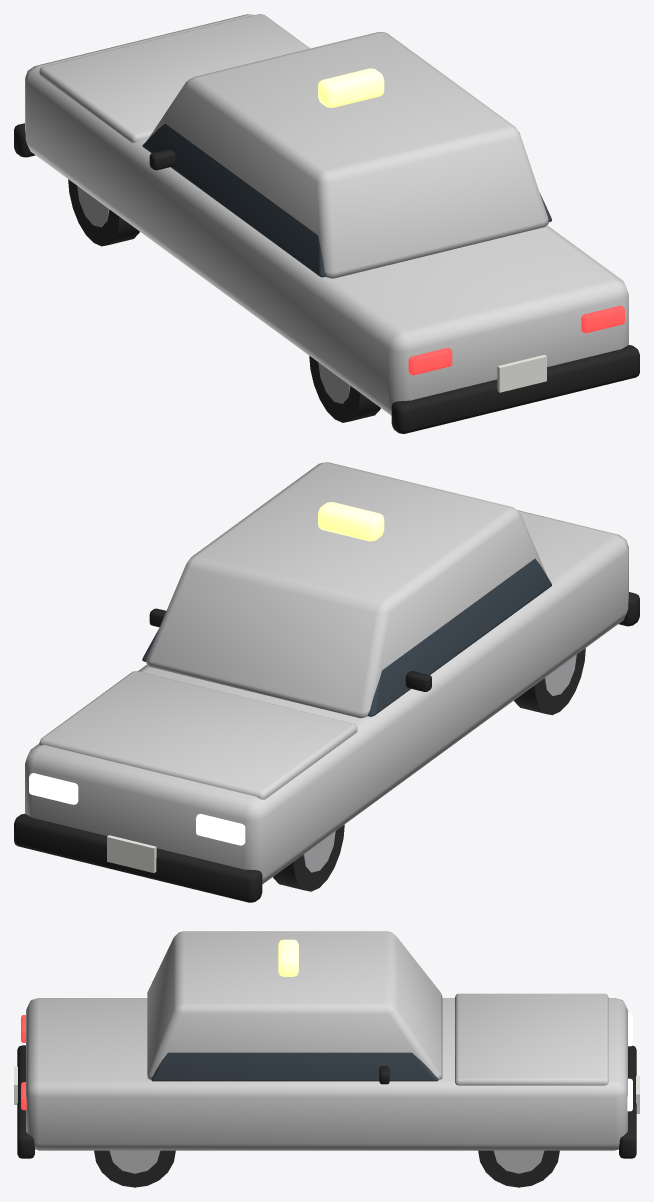
File: car_taxi.glb
The picture shows the model from 3 angles, top to bottom: view 1: azimuth 30°, elevation 25°; view 2: azimuth 150°, elevation 25°; view 3: azimuth 270°, elevation 25°; orthographic projection. The views are drawn at different scales.
Parts seen in each view (by area): view 1: Body, Trim, Glass, WheelMesh_FL, WheelMesh_RL, Light_Andon, Light_Tail, Plate; view 2: Body, Trim, Glass, Light_Head, WheelMesh_FL, WheelMesh_RL, Light_Andon, Plate, Mirror; view 3: Body, Glass, WheelMesh_FR, WheelMesh_RR, Trim, Light_Andon.
Boxes of the visible parts, x1,y1,x2,y2 form: Body: (25, 14, 628, 415); Trim: (14, 123, 639, 433); Glass: (142, 123, 551, 277); WheelMesh_FL: (68, 179, 139, 246); WheelMesh_RL: (309, 356, 380, 422); Light_Andon: (318, 68, 384, 107); Light_Tail: (408, 305, 624, 375); Plate: (497, 354, 546, 392); Body: (25, 462, 628, 884); Trim: (14, 592, 639, 902); Glass: (142, 558, 551, 716); Light_Head: (29, 773, 245, 845); WheelMesh_FL: (273, 824, 344, 891); WheelMesh_RL: (514, 648, 585, 715); Light_Andon: (318, 502, 384, 541); Plate: (107, 835, 156, 872); Mirror: (149, 608, 431, 691); Body: (26, 931, 627, 1150); Glass: (151, 1052, 438, 1081); WheelMesh_FR: (478, 1150, 559, 1187); WheelMesh_RR: (94, 1150, 175, 1187); Trim: (17, 1045, 636, 1158); Light_Andon: (278, 939, 298, 976).
Bounding box in the file's own units: 2 × 1.68 × 4.89.
